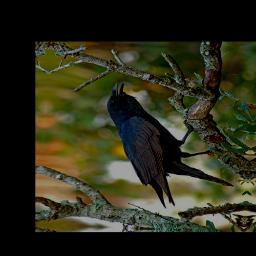Crow: (98, 81, 244, 212)
